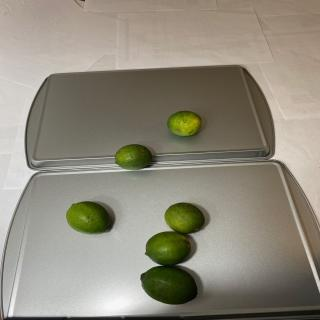Lemon: (140, 265, 198, 305), (145, 231, 191, 266), (66, 201, 110, 234), (164, 202, 205, 234), (114, 144, 152, 170), (167, 110, 202, 136)
